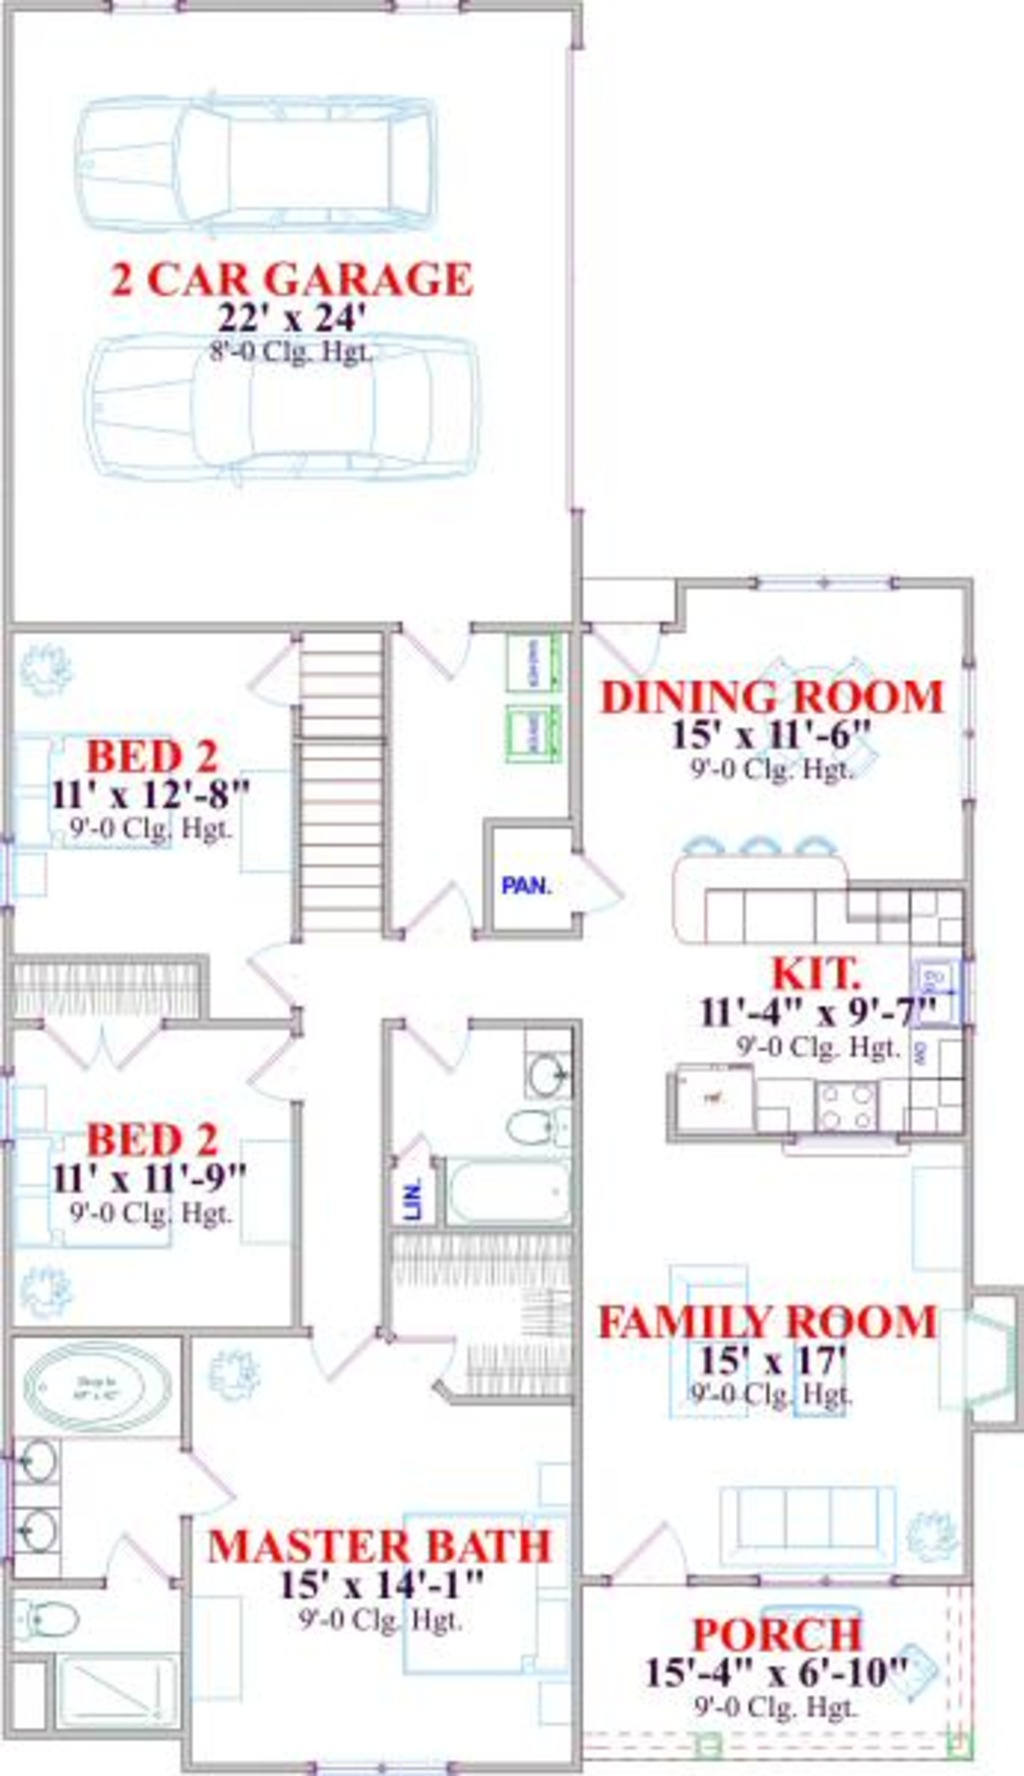bed: (1, 1125, 205, 1261), (2, 723, 197, 861)
door: (592, 1517, 701, 1604), (51, 1004, 167, 1082), (405, 620, 492, 709), (402, 1009, 489, 1093), (170, 1442, 240, 1528), (402, 858, 470, 944), (232, 936, 308, 1008), (383, 1328, 463, 1395), (247, 1034, 321, 1101), (310, 1325, 383, 1388), (94, 1534, 159, 1595)
kitchen_bar: (666, 825, 951, 997)
large_sink: (486, 1098, 586, 1158), (13, 1598, 103, 1655)
large_sofa: (651, 1258, 781, 1436), (708, 1471, 902, 1574)
round_table: (724, 655, 902, 809)
small_sink: (16, 1439, 56, 1584), (516, 1028, 575, 1097)
stairs: (281, 609, 410, 939)
tub: (13, 1339, 192, 1439), (445, 1155, 581, 1225)
window: (754, 571, 893, 617), (305, 1747, 455, 1776), (950, 655, 970, 807), (954, 961, 978, 1058)
